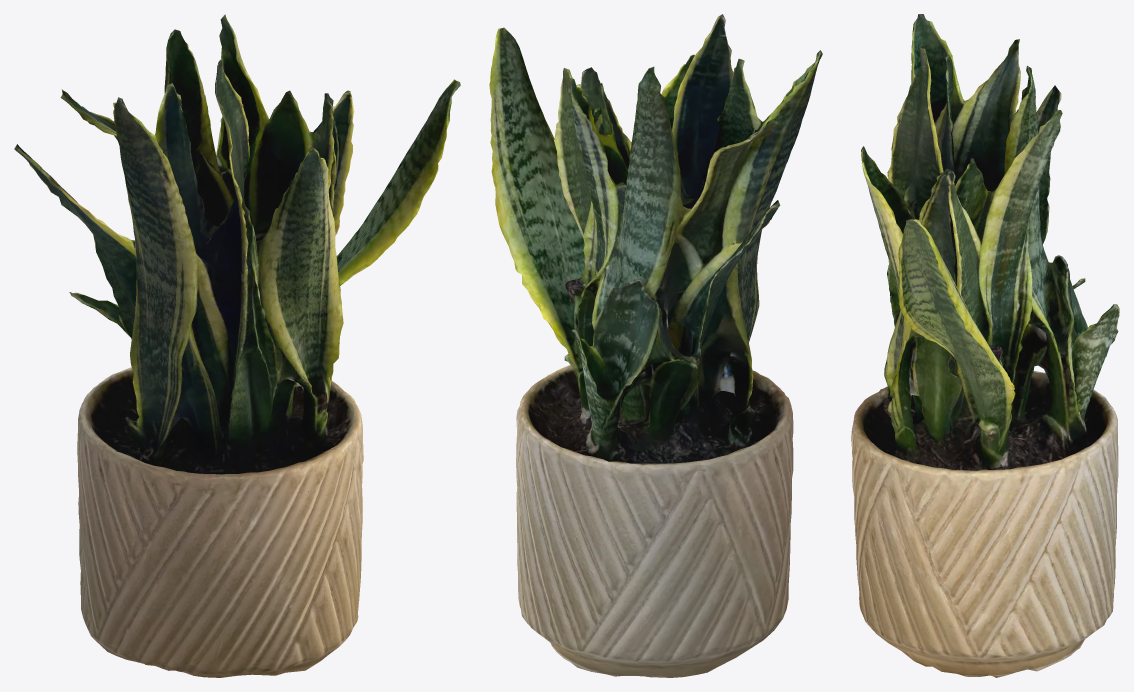
File: plant_snake_in_pot_franklysketch.glb
3 renders of one model, left to right at view 1: azimuth 30°, elevation 25°; view 2: azimuth 150°, elevation 25°; view 3: azimuth 270°, elevation 25°, orthographic. The views are drawn at different scales.
Visible parts, largest first — view 1: Mesh; view 2: Mesh; view 3: Mesh.
Boxes of the visible parts, x1,y1,x2,y2 form: Mesh: (14,14,460,677); Mesh: (489,14,822,677); Mesh: (851,14,1119,677).
Size of the model in its own units: 0.2859 by 0.4677 by 0.1973.
1 material, 1 textured.
